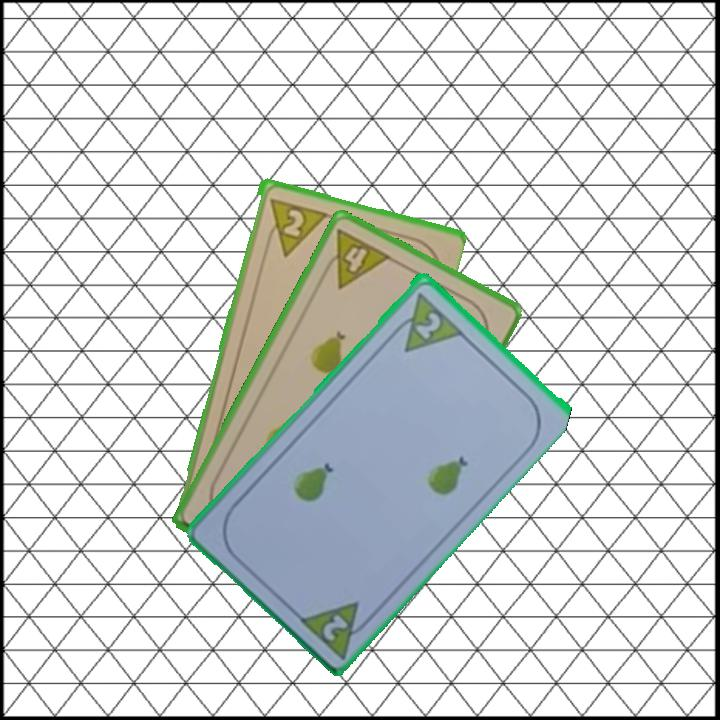2p: (386, 287, 464, 355), (262, 193, 328, 259), (318, 609, 352, 644)
4p: (316, 225, 394, 292)
